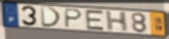3: (20, 5, 39, 27)
8: (131, 12, 148, 34)
D: (40, 6, 63, 28)
E: (85, 9, 107, 32)
H: (105, 11, 129, 33)
P: (64, 8, 84, 29)
